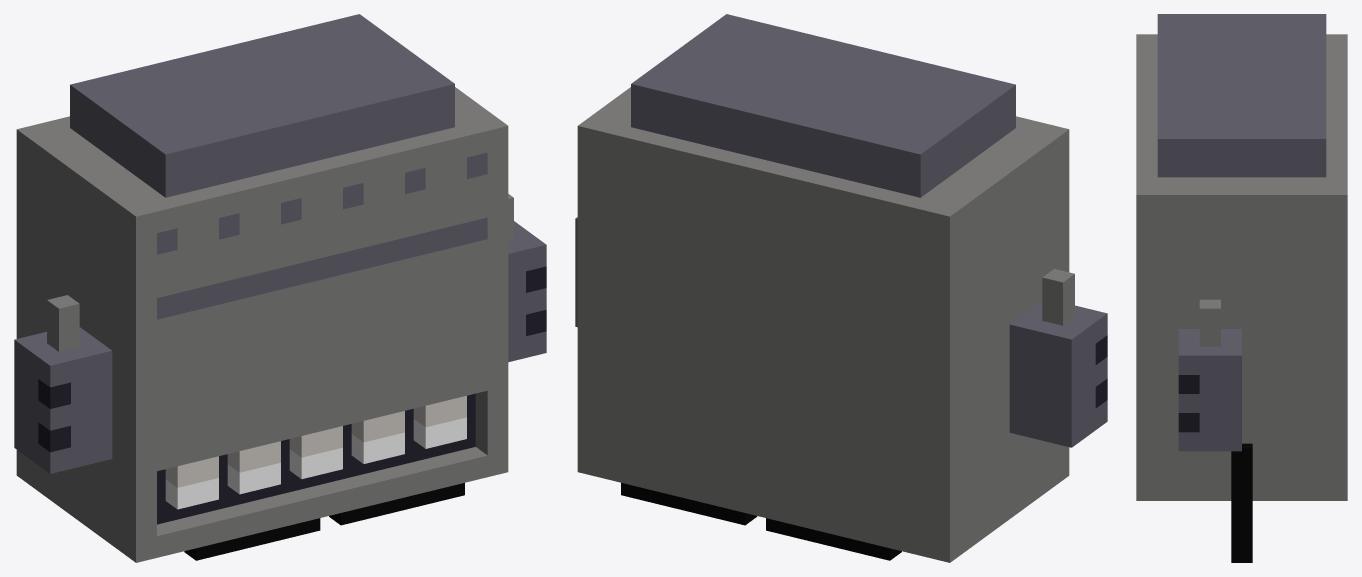
The model's file is robot.glb.
3 views of the same model, side by side, from view 1: azimuth 30°, elevation 25°; view 2: azimuth 150°, elevation 25°; view 3: azimuth 270°, elevation 25° (orthographic). The views are drawn at different scales.
Visible parts, largest first — view 1: base, front, glasses, r, l; view 2: base, glasses; view 3: base, glasses, l.
Part boxes in pixels (bbox=[...]): base: bbox=[14, 14, 546, 562]; front: bbox=[157, 152, 487, 509]; glasses: bbox=[184, 483, 464, 560]; r: bbox=[38, 379, 70, 452]; l: bbox=[526, 266, 546, 336]; base: bbox=[575, 14, 1107, 562]; glasses: bbox=[621, 483, 901, 560]; base: bbox=[1136, 14, 1347, 500]; glasses: bbox=[1231, 443, 1252, 562]; l: bbox=[1178, 375, 1199, 432].
Size of the model in its own units: 24 by 21 by 10.
9 materials, 9 textured.
